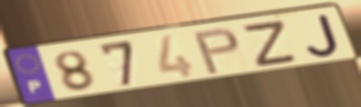4: (156, 33, 197, 80)
7: (97, 39, 138, 89)
8: (52, 49, 98, 92)
J: (304, 13, 343, 58)
P: (191, 26, 242, 76)
Z: (242, 18, 301, 69)
